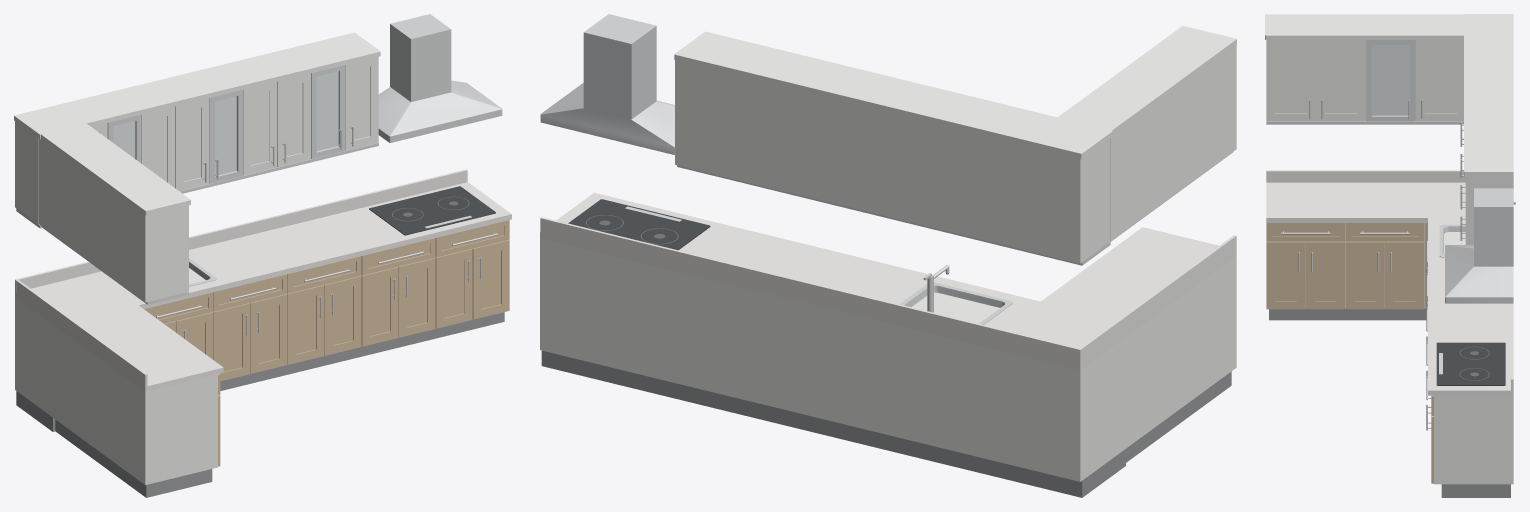
The picture shows the model from 3 angles, left to right: view 1: azimuth 30°, elevation 25°; view 2: azimuth 150°, elevation 25°; view 3: azimuth 270°, elevation 25°; orthographic projection. The views are drawn at different scales.
Visible parts, largest first — view 1: Tủ bếp chữ L Dài cạnh chính=3600; Dài cạnh phụ=1800; Sâu tủ ; view 2: Tủ bếp chữ L Dài cạnh chính=3600; Dài cạnh phụ=1800; Sâu tủ ; view 3: Tủ bếp chữ L Dài cạnh chính=3600; Dài cạnh phụ=1800; Sâu tủ .
Part boxes in pixels (bbox=[...]): Tủ bếp chữ L Dài cạnh chính=3600; Dài cạnh phụ=1800; Sâu tủ : bbox=[14, 14, 511, 497]; Tủ bếp chữ L Dài cạnh chính=3600; Dài cạnh phụ=1800; Sâu tủ : bbox=[540, 14, 1236, 497]; Tủ bếp chữ L Dài cạnh chính=3600; Dài cạnh phụ=1800; Sâu tủ : bbox=[1265, 14, 1515, 497].
Size of the model in its own units: 3.61 by 2.2 by 1.82.
